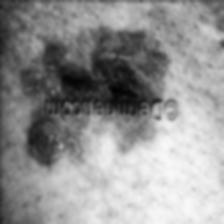Potentially Malignant Skin Tumors: (67, 51, 153, 90), (34, 122, 138, 153)
